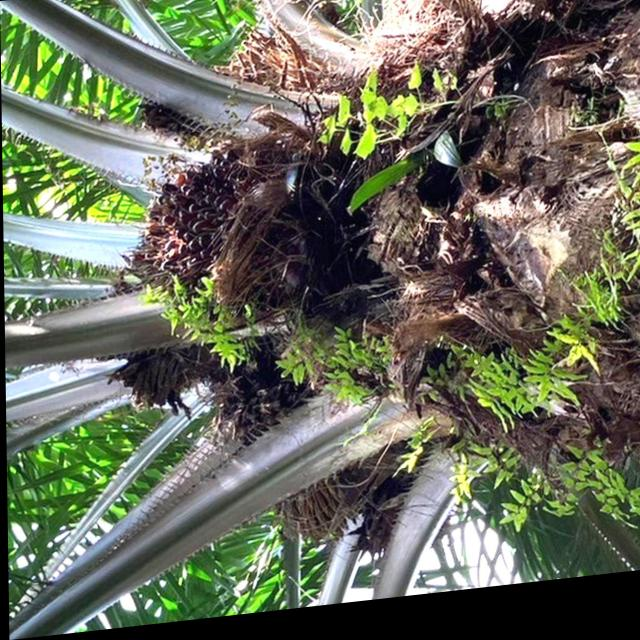ripe: (131, 142, 263, 303)
